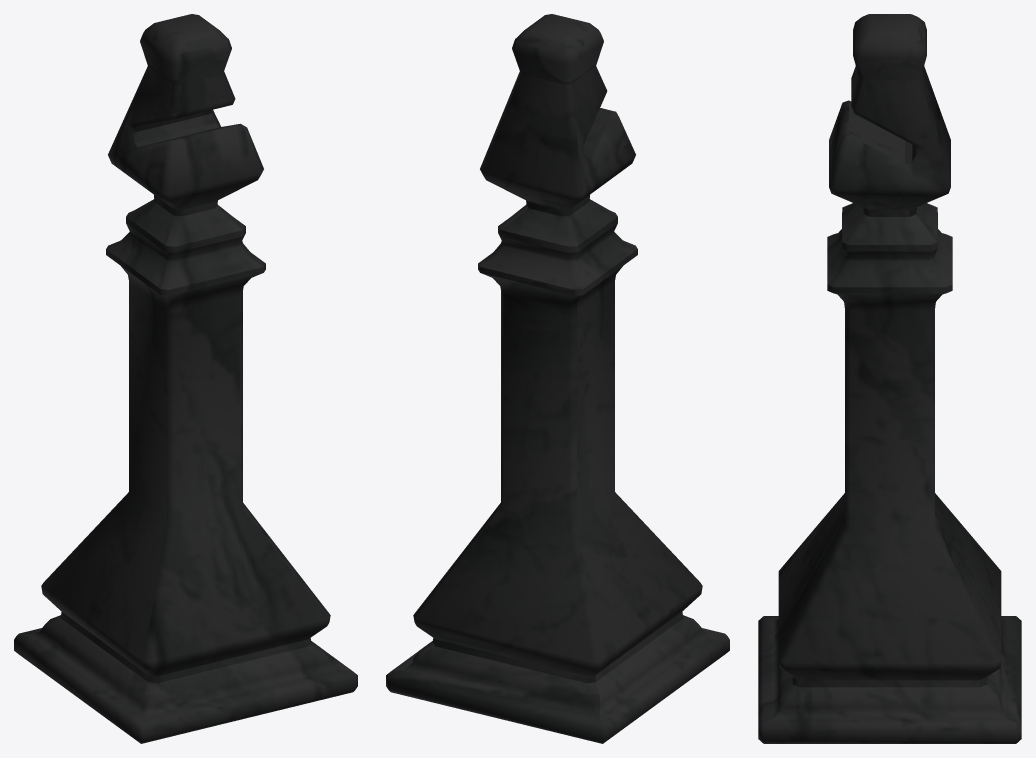
Rendered from chess_rook_01-black.glb.
3 renders of one model, left to right at view 1: azimuth 30°, elevation 25°; view 2: azimuth 150°, elevation 25°; view 3: azimuth 270°, elevation 25°, orthographic. The views are drawn at different scales.
Visible parts, largest first — view 1: rook_01; view 2: rook_01; view 3: rook_01.
Part boxes in pixels (<box>): rook_01: <box>14,14,357,743</box>; rook_01: <box>386,14,729,743</box>; rook_01: <box>758,14,1021,743</box>.
Size of the model in its own units: 0.5712 by 1.6 by 0.5712.
Materials: 1 (1 with a texture image).
